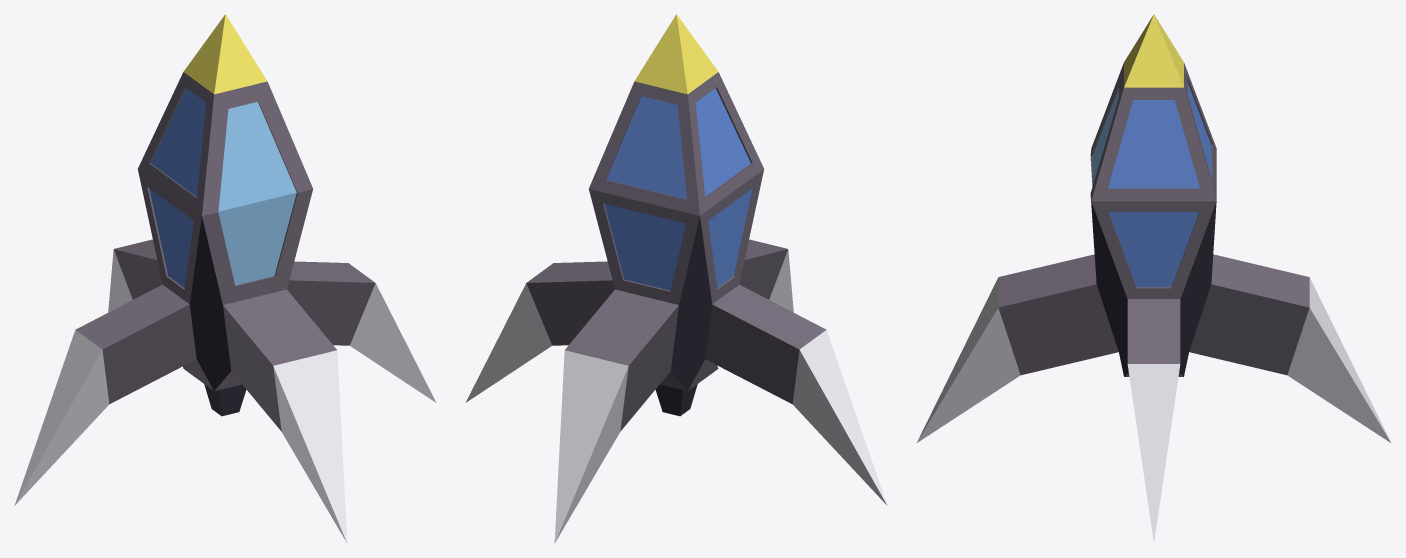
The model's file is Rocket.glb.
3 views of the same model, side by side, from view 1: azimuth 30°, elevation 25°; view 2: azimuth 150°, elevation 25°; view 3: azimuth 270°, elevation 25° (orthographic). The views are drawn at different scales.
Parts seen in each view (by area): view 1: Cube; view 2: Cube; view 3: Cube.
Part boxes in pixels (bbox=[...]): Cube: bbox=[14, 14, 436, 543]; Cube: bbox=[465, 14, 887, 543]; Cube: bbox=[917, 14, 1390, 542].
Size of the model in its own units: 7.59 by 7.57 by 7.59.
Materials: 1 (1 with a texture image).
